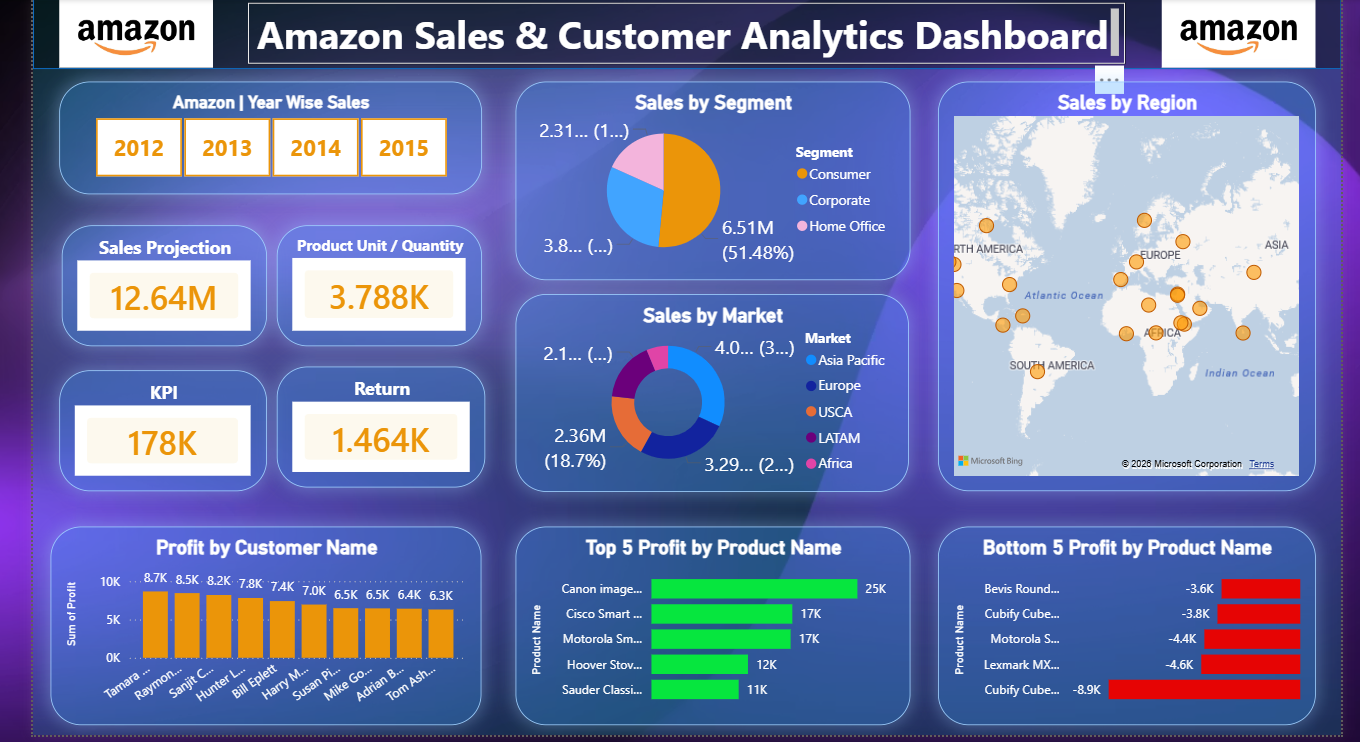

Layout of this report page (visuals, bound fields, positions):
{"tool":"powerbi","page":{"name":"Page 1","canvas":[1280,720],"ordinal":0},"visuals":[{"type":"slicer","title":"Amazon | Year Wise Sales","fields":{"Values":["Orders.Year"]},"box":[25.7,80.7,413.3,110.1],"z":0},{"type":"shape","box":[0,0,1280,68.6],"z":1000},{"type":"image","box":[25.7,0,150.4,68.5],"z":2000},{"type":"cardVisual","title":"Sales Projection","fields":{"Data":["Sum(Orders.Sales)"]},"box":[28.1,221.3,200.5,118.6],"z":3000},{"type":"cardVisual","title":"Product Unit / Quantity","fields":{"Data":["Count(Orders.Product Name)"]},"box":[238.5,221.3,200.5,118.6],"z":4000},{"type":"cardVisual","title":"KPI","fields":{"Data":["Sum(Orders.Quantity)"]},"box":[25.7,363.2,203,118.6],"z":5000},{"type":"cardVisual","title":"Return","fields":{"Data":["Count(Orders.Ship Date)"]},"box":[238.5,359.5,204.2,118.6],"z":6000},{"type":"pieChart","title":"Sales by Segment","fields":{"Category":["Orders.Segment"],"Y":["Sum(Orders.Sales)"]},"box":[472,80.7,386.4,194.4],"z":7000},{"type":"textbox","box":[210.3,3.7,858.4,59.9],"z":8000},{"type":"image","box":[1104.2,0,150.4,68.5],"z":9000},{"type":"donutChart","title":"Sales by Market","fields":{"Category":["Orders.Market"],"Y":["Sum(Orders.Sales)"]},"box":[472,288.6,385.2,193.2],"z":10000},{"type":"columnChart","title":"Profit by Customer Name","fields":{"Category":["Orders.Customer Name"],"Y":["Sum(Orders.Profit)"]},"box":[17.1,516,421.9,194.4],"z":11000},{"type":"clusteredBarChart","title":"Top 5 Profit by Product Name","fields":{"Y":["Sum(Orders.Profit)"],"Category":["Orders.Product Name"]},"box":[472,516,386.4,194.4],"z":12000},{"type":"clusteredBarChart","title":"Bottom 5 Profit by Product Name","fields":{"Y":["Sum(Orders.Profit)"],"Category":["Orders.Product Name"]},"box":[885.3,516,369.3,194.4],"z":13000},{"type":"map","title":"Sales by Region","fields":{"Category":["Orders.Region"]},"box":[885.3,80.7,369.3,401.1],"z":14000}]}

Visuals, with their boxes in screenshot pixels (x1, y1, x2, y2):
"Amazon | Year Wise Sales" slicer: (left=58, top=43, right=479, bottom=155)
shape: (left=32, top=0, right=1336, bottom=31)
image: (left=58, top=0, right=211, bottom=31)
"Sales Projection" cardVisual: (left=61, top=186, right=265, bottom=307)
"Product Unit / Quantity" cardVisual: (left=275, top=186, right=479, bottom=307)
"KPI" cardVisual: (left=58, top=331, right=265, bottom=452)
"Return" cardVisual: (left=275, top=327, right=483, bottom=448)
"Sales by Segment" pieChart: (left=513, top=43, right=906, bottom=241)
textbox: (left=246, top=0, right=1121, bottom=26)
image: (left=1157, top=0, right=1310, bottom=31)
"Sales by Market" donutChart: (left=513, top=255, right=905, bottom=452)
"Profit by Customer Name" columnChart: (left=49, top=487, right=479, bottom=685)
"Top 5 Profit by Product Name" clusteredBarChart: (left=513, top=487, right=906, bottom=685)
"Bottom 5 Profit by Product Name" clusteredBarChart: (left=934, top=487, right=1310, bottom=685)
"Sales by Region" map: (left=934, top=43, right=1310, bottom=452)
